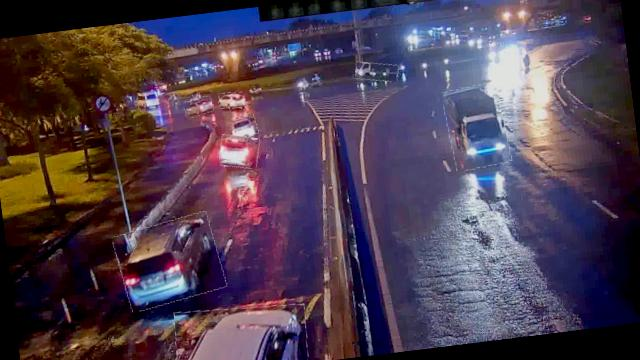Car: (112, 212, 226, 310), (171, 298, 310, 360), (217, 131, 261, 170), (231, 112, 258, 138), (182, 96, 214, 117), (218, 90, 245, 110)
Truck: (442, 82, 509, 171), (354, 59, 398, 84)
